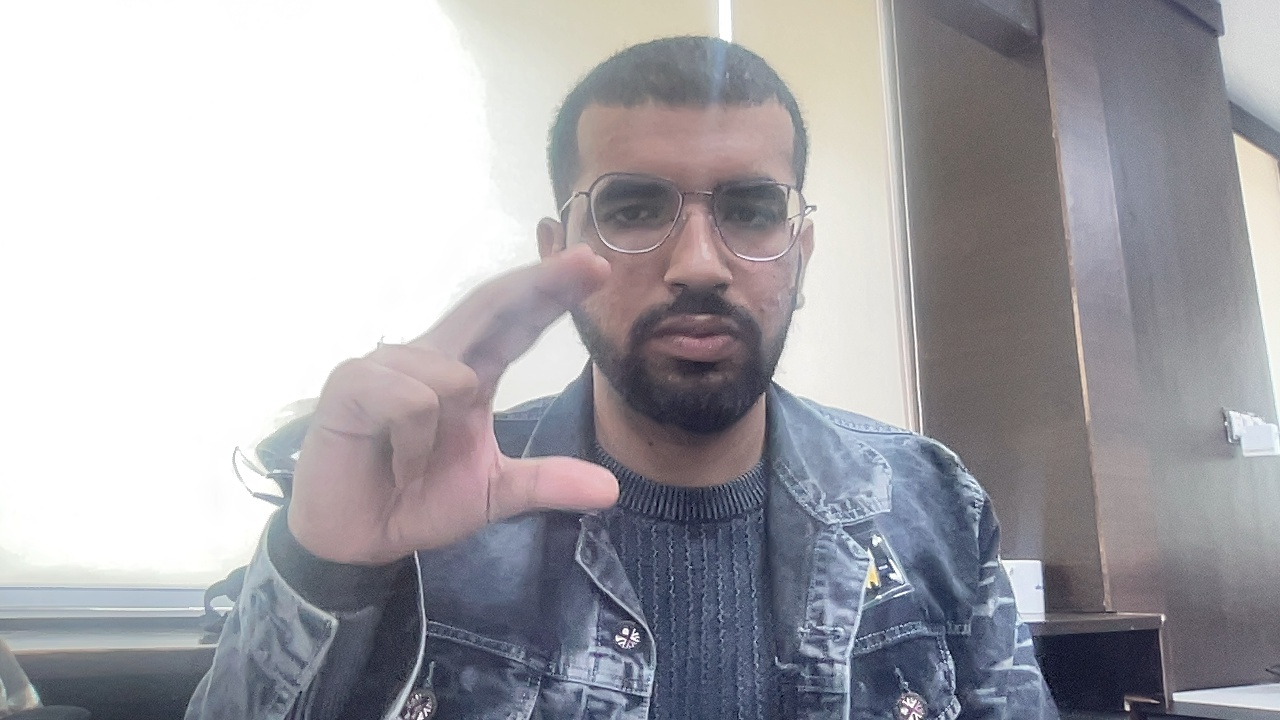No: (263, 261, 728, 570)
